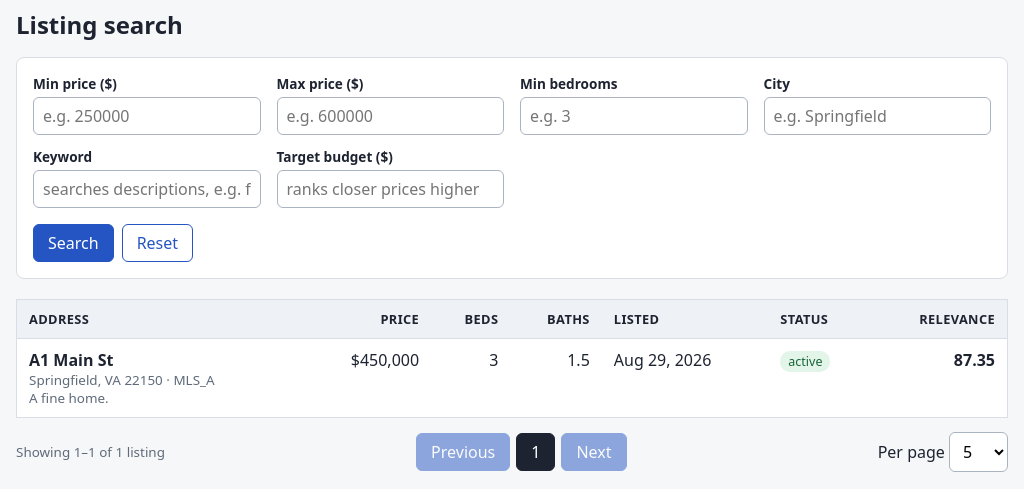
App › clears the filters and searches again on Reset
Expected: the text "A1 Main St" is shown, top-left (29, 349), bottom-right (113, 371)
Type "pool" into the field labelled "Keyword".
click(147, 189); type("pool")  # box top-left (33, 170), bottom-right (260, 208)
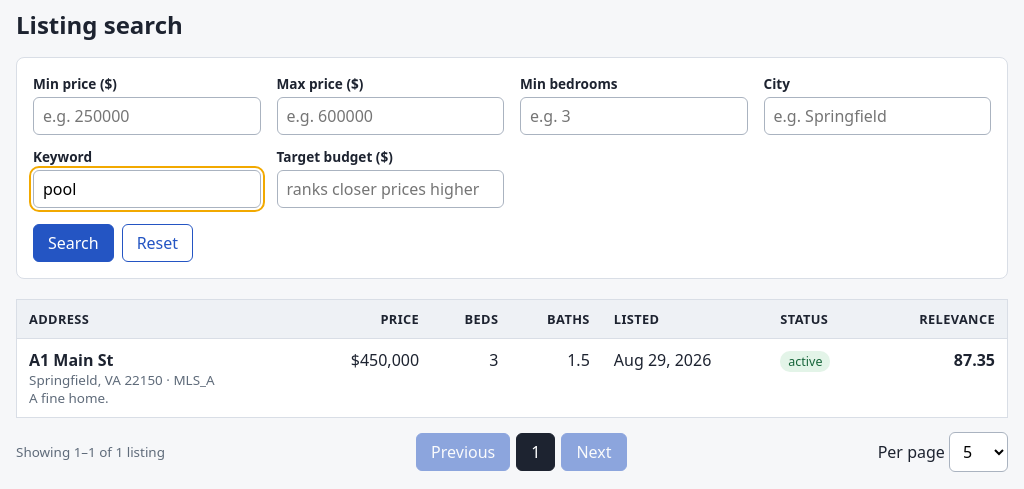
Click the button "Search".
click(73, 243)  # box top-left (33, 224), bottom-right (114, 262)
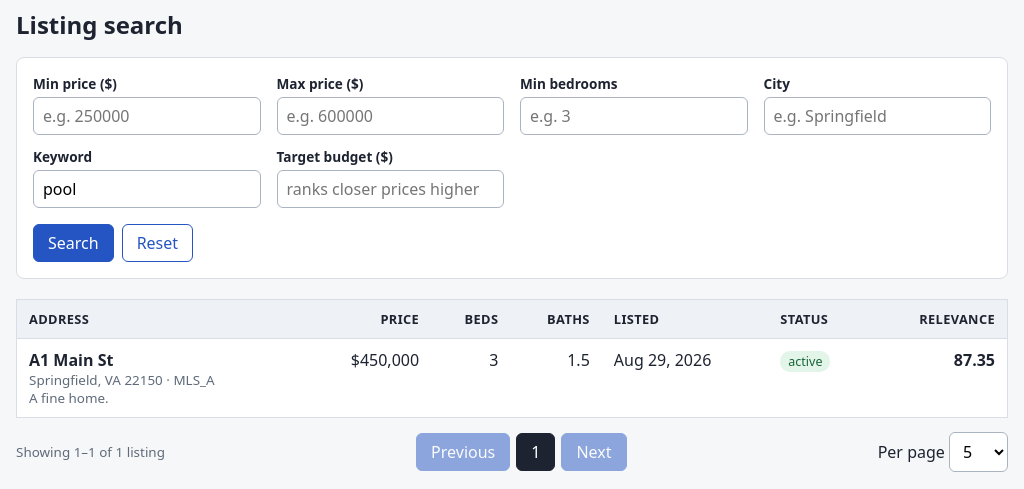
Click the button "Reset".
click(157, 243)  # box top-left (122, 224), bottom-right (193, 262)
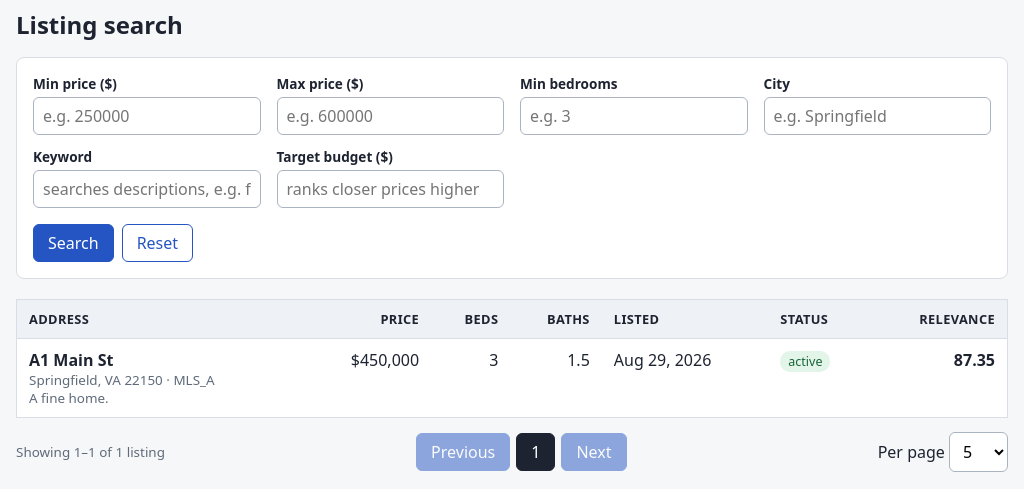
Result: the field labelled "Keyword" is empty at top-left (33, 170), bottom-right (260, 208)
